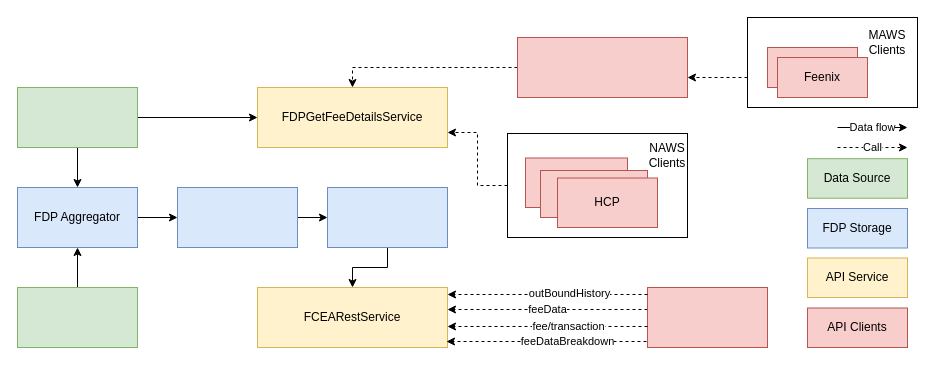
The diagram is 935 pixels wide and 367 high, and some of its shapes have lost their labels. The shapes that lost their labels are listed below. From the top down, each one's centre as x and y in pixels, then its label:
At (602,67): "FeeServiceProxyService".
At (77,117): "Odyssey".
At (237,217): "FDP Data Lake".
At (387,217): "FDP Data Index".
At (77,317): "Caishen".
At (707,317): "FIFA".
